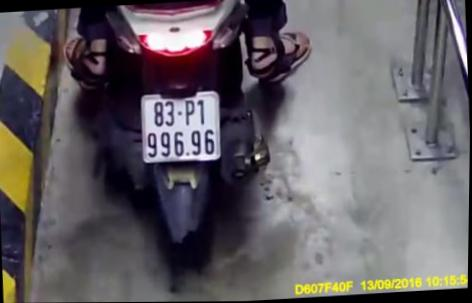LP: (138, 88, 226, 168)
